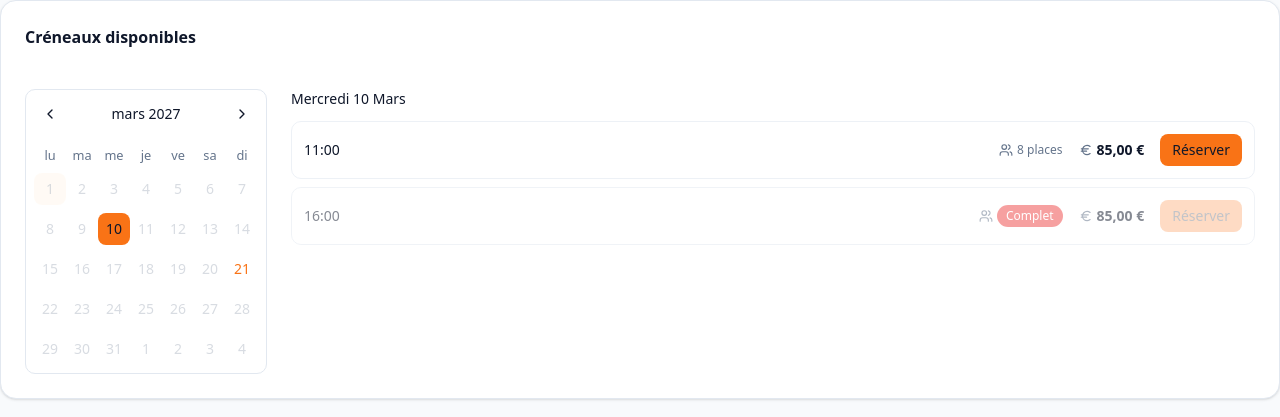
Test: ActivitySlots › affiche les horaires du jour choisi dans le calendrier
Click the button named "21 mars". click: (242, 269)
box: x1=226 y1=253 x2=258 y2=285
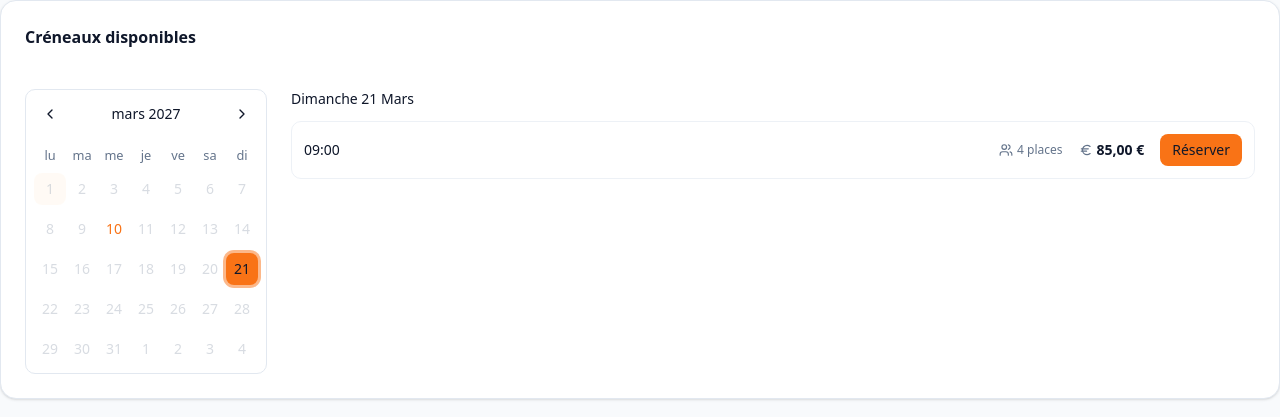
Now the text "dimanche 21 mars" is shown, box x1=291 y1=89 x2=414 y2=108
Now the text "09:00" is shown, box x1=304 y1=140 x2=340 y2=160
Now the text "11:00" is gone
